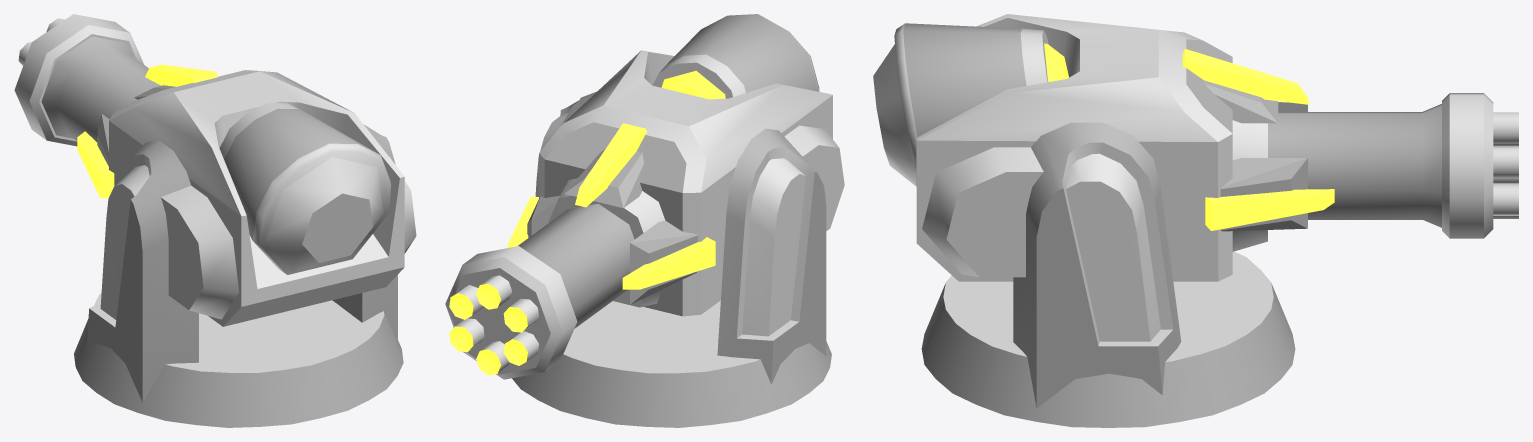
The model's file is SM_Module_TurretHead_Kinetic_T3.fbx.
3 renders of one model, left to right at view 1: azimuth 30°, elevation 25°; view 2: azimuth 150°, elevation 25°; view 3: azimuth 270°, elevation 25°, orthographic. The views are drawn at different scales.
Parts seen in each view (by area): view 1: SM_Module_TurretHead_Kinetic_T3; view 2: SM_Module_TurretHead_Kinetic_T3; view 3: SM_Module_TurretHead_Kinetic_T3.
Part boxes in pixels (x1,y1,x2,y2): SM_Module_TurretHead_Kinetic_T3: (14, 14, 416, 427); SM_Module_TurretHead_Kinetic_T3: (445, 14, 844, 427); SM_Module_TurretHead_Kinetic_T3: (873, 14, 1518, 427).
Bounding box in the file's own units: 2.53 × 4.37 × 2.38.
